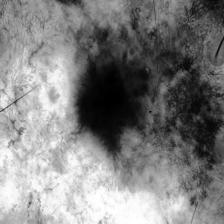Benign Marking or Mole: (68, 45, 162, 165)
